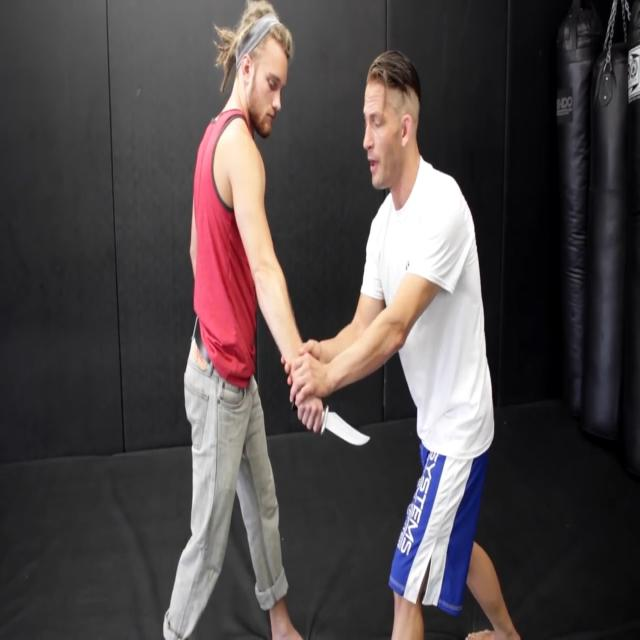knife: (320, 405, 374, 451)
